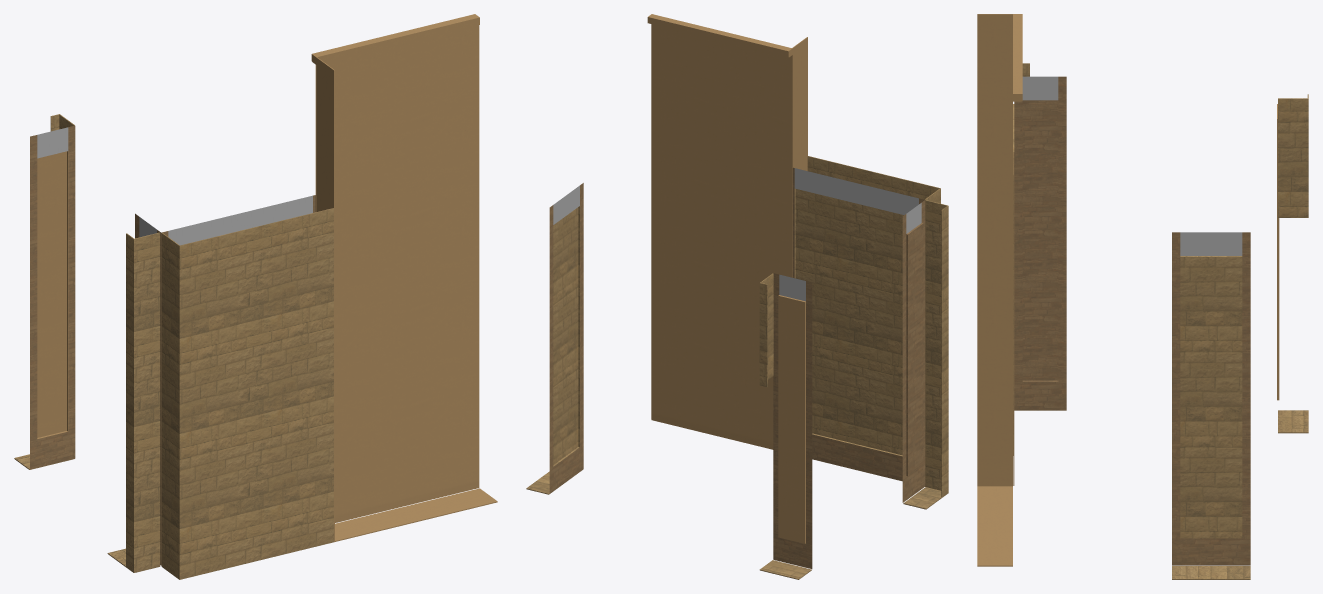
File: unit-link-north-west.glb
3 renders of one model, left to right at view 1: azimuth 30°, elevation 25°; view 2: azimuth 150°, elevation 25°; view 3: azimuth 270°, elevation 25°, orthographic. The views are drawn at different scales.
Visible parts, largest first — view 1: bz06_sand_plaster-cast, bz06_dressed_sandstone-cast, bz06_service_stone-cast, ph_bz04_stone_trim_sandstone-cast; view 2: bz06_sand_plaster-cast, bz06_dressed_sandstone-cast, bz06_service_stone-cast, ph_bz04_stone_trim_sandstone-cast; view 3: bz06_service_stone-cast, bz06_dressed_sandstone-cast, bz06_sand_plaster-cast, ph_bz04_stone_trim_sandstone-cast.
Part boxes in pixels (x1,y1,x2,y2): bz06_sand_plaster-cast: (37,14,497,542); bz06_dressed_sandstone-cast: (14,114,333,579); bz06_service_stone-cast: (30,125,315,565); ph_bz04_stone_trim_sandstone-cast: (37,127,312,245); bz06_sand_plaster-cast: (647,14,807,543); bz06_dressed_sandstone-cast: (526,156,948,579); bz06_service_stone-cast: (549,167,925,568); ph_bz04_stone_trim_sandstone-cast: (553,168,921,301); bz06_service_stone-cast: (1014,76,1250,565); bz06_dressed_sandstone-cast: (1013,63,1308,579); bz06_sand_plaster-cast: (977,14,1279,566); ph_bz04_stone_trim_sandstone-cast: (1022,76,1242,255).
Bounding box in the file's own units: 8.2 × 9.92 × 6.3.
Materials: 4 (3 with a texture image).
